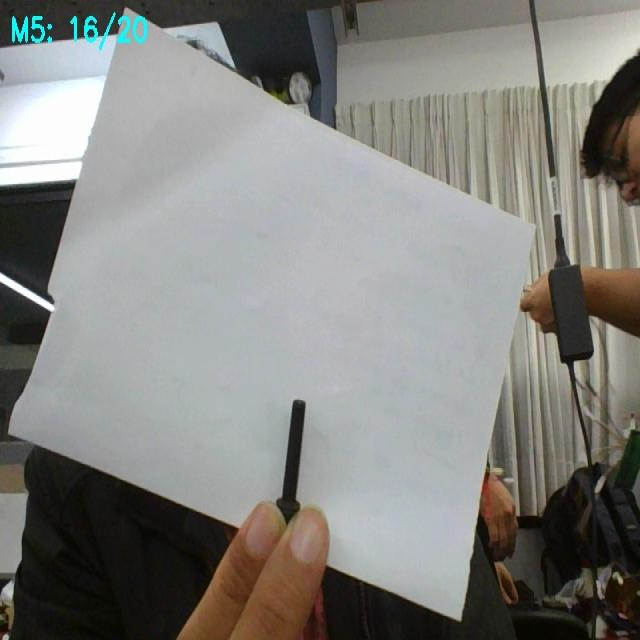vastago: (283, 400, 305, 500)
